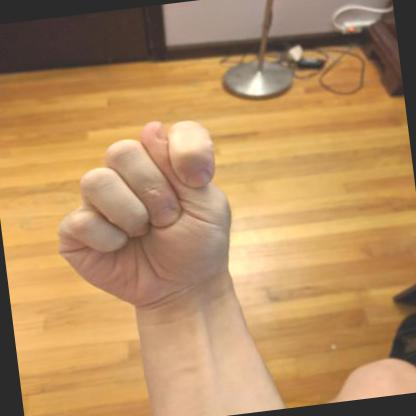T: (57, 120, 237, 310)
